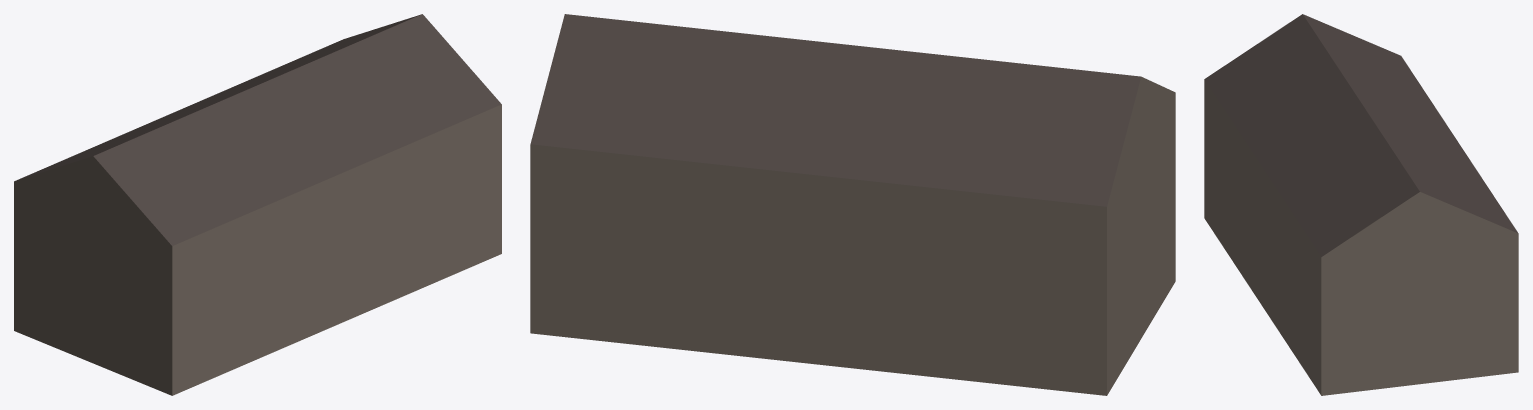
3 views of the same model, side by side, from view 1: azimuth 30°, elevation 25°; view 2: azimuth 150°, elevation 25°; view 3: azimuth 270°, elevation 25° (orthographic). The views are drawn at different scales.
Visible parts, largest first — view 1: HP-w380340003; view 2: HP-w380340003; view 3: HP-w380340003.
Part boxes in pixels (x1,y1,x2,y2): HP-w380340003: [14, 14, 501, 395]; HP-w380340003: [530, 14, 1175, 395]; HP-w380340003: [1204, 14, 1518, 395].
Size of the model in its own units: 18.67 by 8.32 by 12.32.
